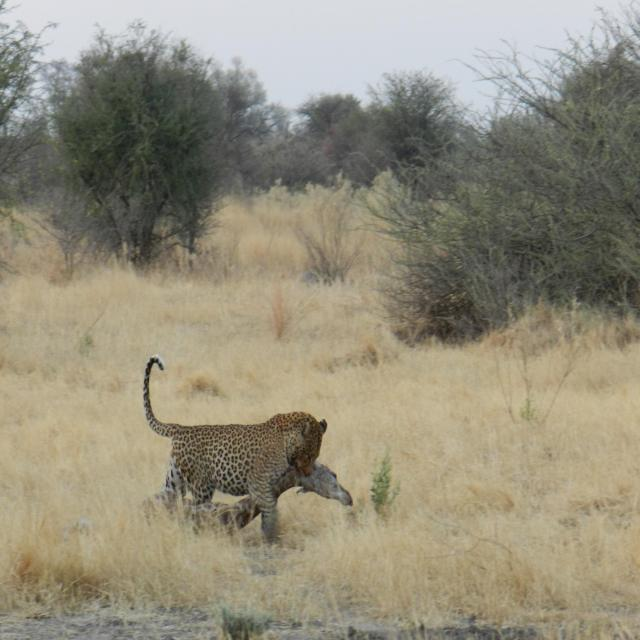Leopard: (134, 372, 335, 546)
